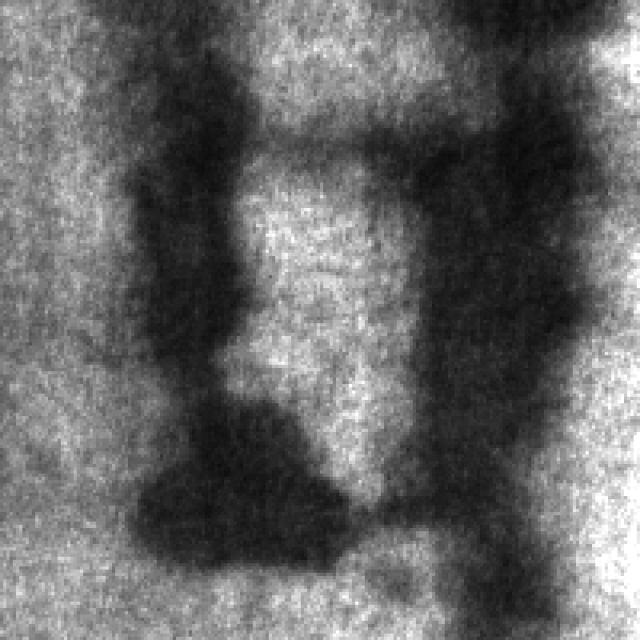patches: (90, 4, 352, 570), (390, 0, 580, 640)
